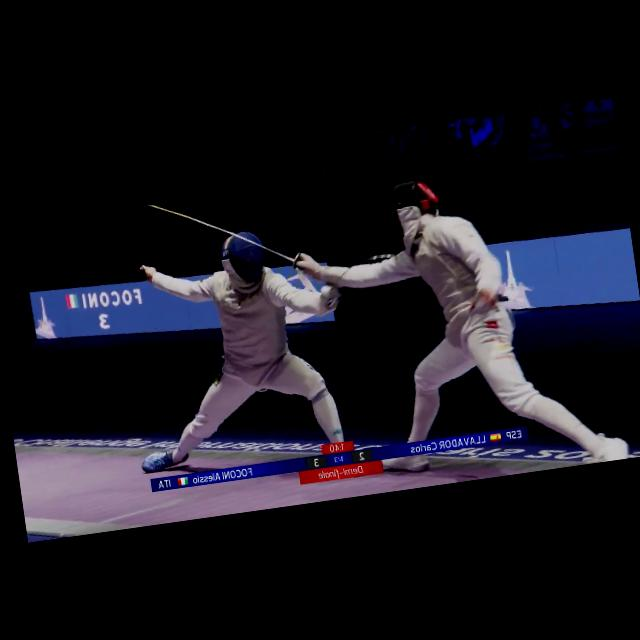blade: (144, 178, 310, 288), (315, 246, 424, 307)
